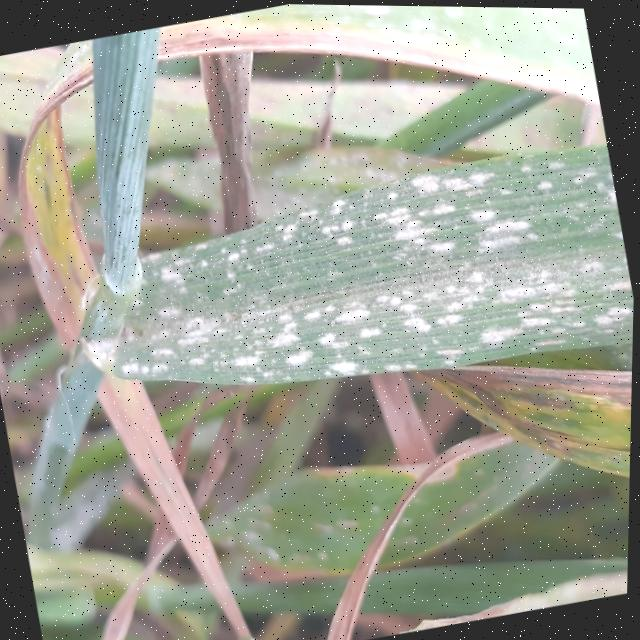powder_mildew: (43, 109, 638, 451), (153, 2, 602, 184), (203, 413, 522, 615)
